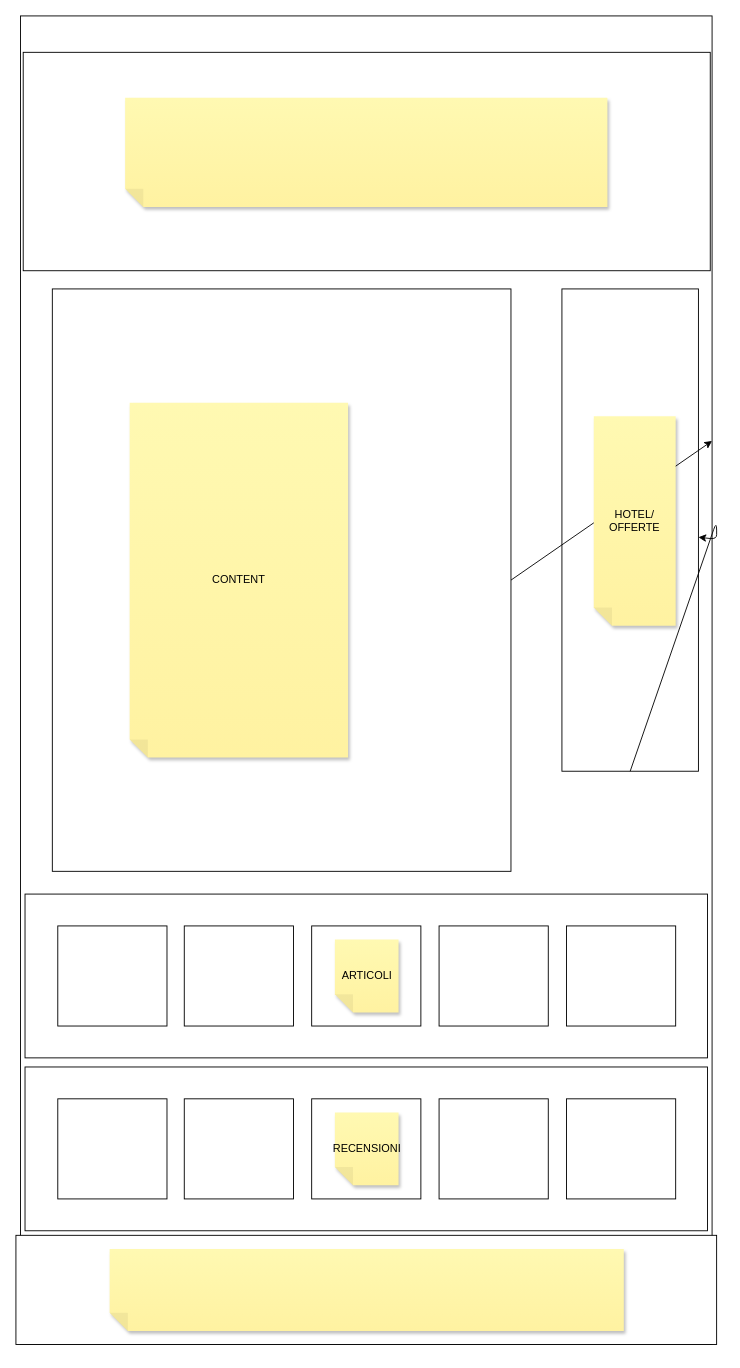
Some shapes in this 740 by 1368 pixel diagram are drawn without their labels. The shapes that lost their labels are listed below. From the top down, each one's centre as x and y in pixels, then its label:
[366,153]: HERO
[367,1291]: FOOTER
